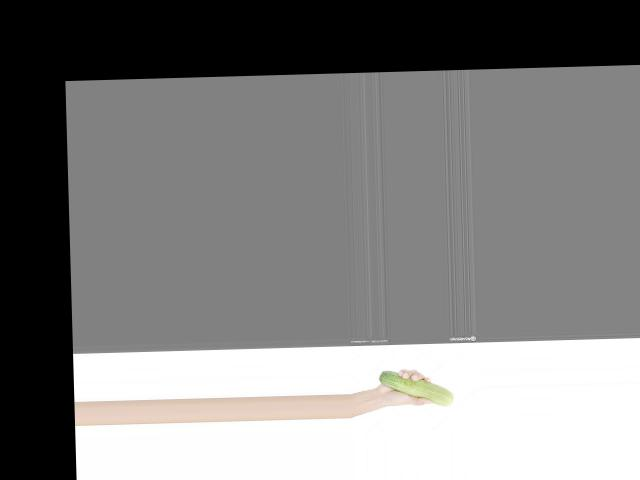cucumber: (378, 368, 452, 408)
